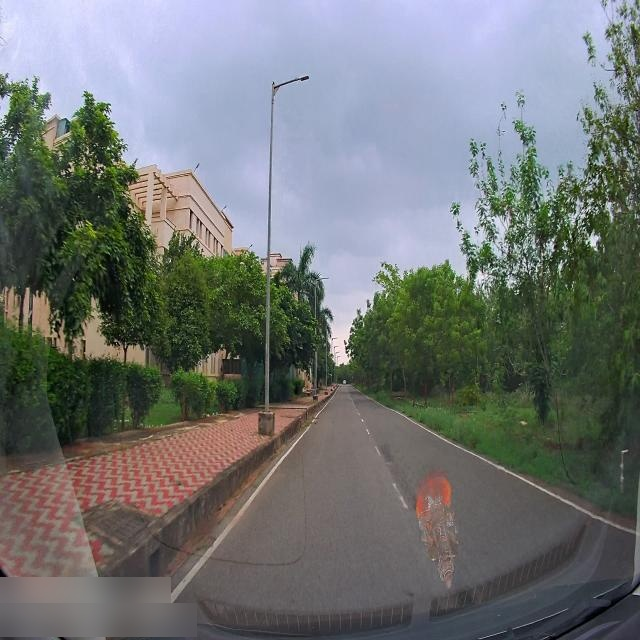pothole: (205, 528, 218, 556)
